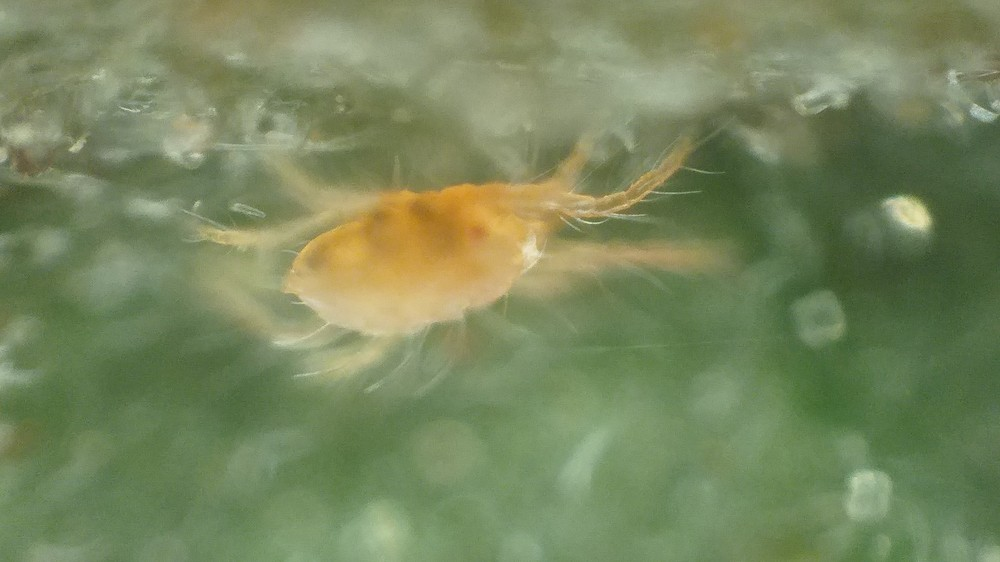Aracnido Rojo: (183, 107, 768, 419)
